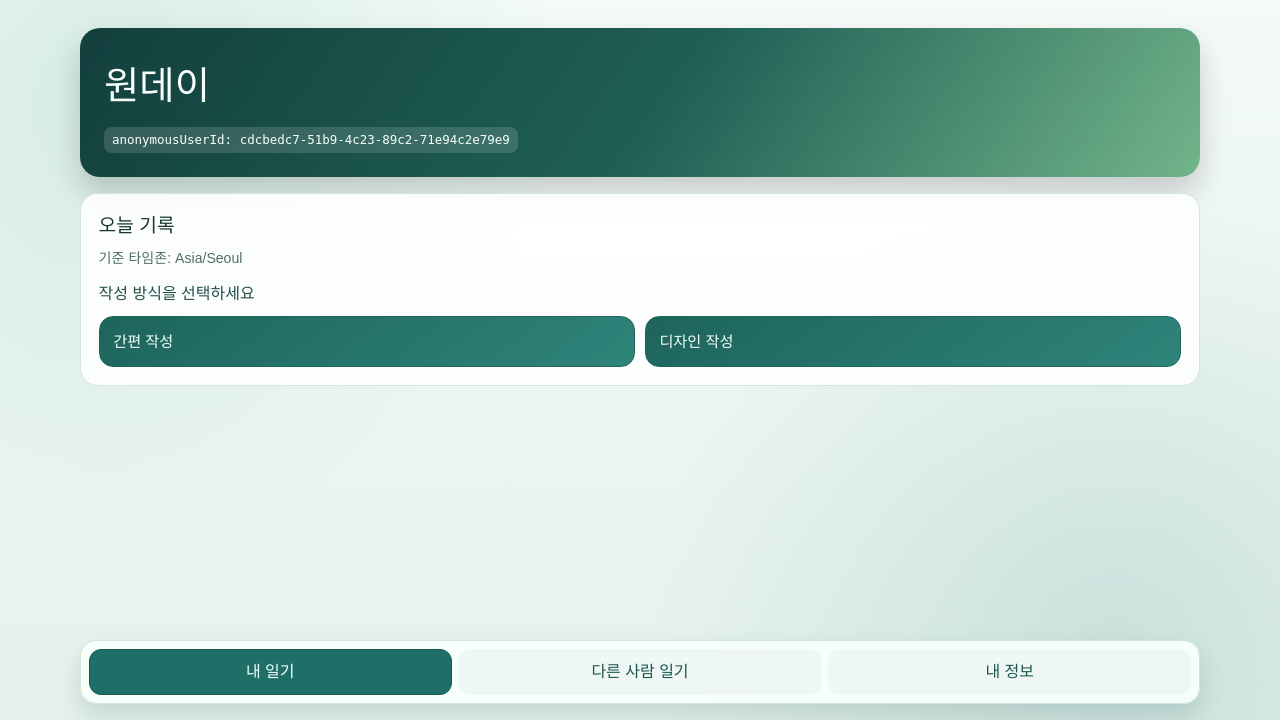
Test: App integration › uses the selected title instead of upload badges in the feed
What coordinates should you click on to do the following:
click the button "내 정보"
I would click on:
 (1010, 672)
Its box is [828, 649, 1191, 695].
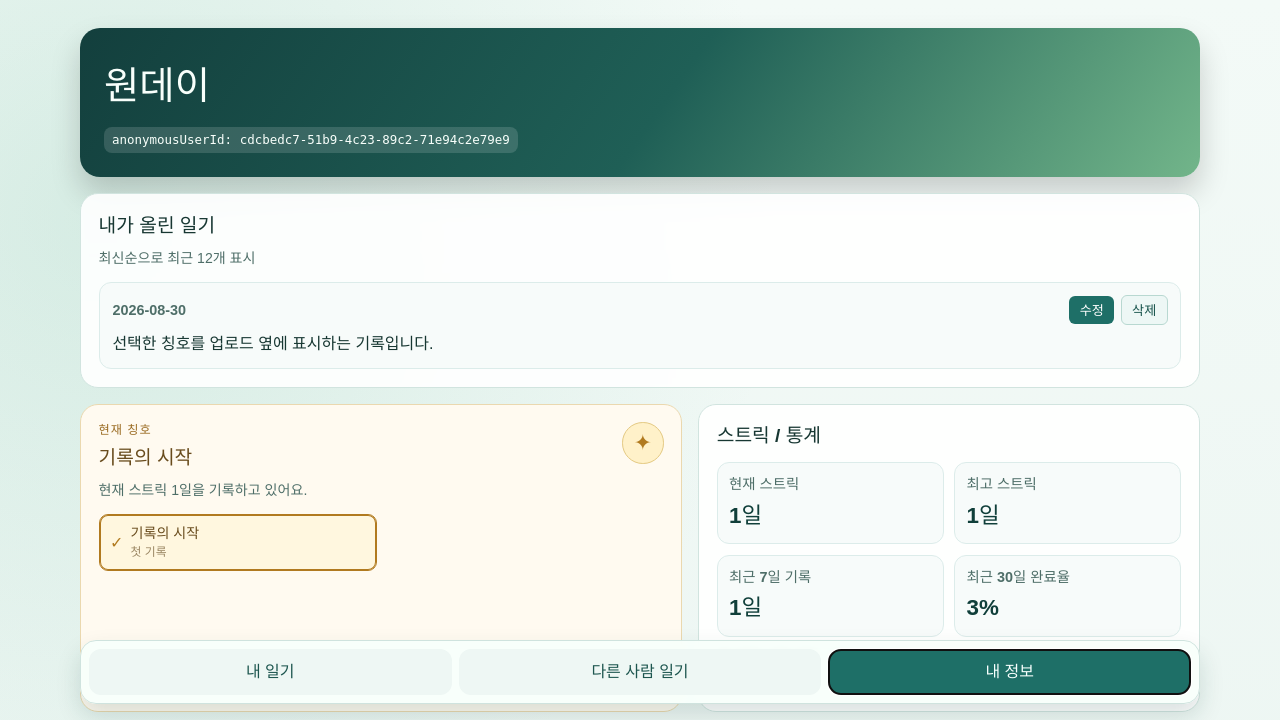
What coordinates should you click on to do the following:
click the button "✓ 기록의 시작 첫 기록"
I would click on:
 (165, 533)
Its box is [99, 514, 377, 571].
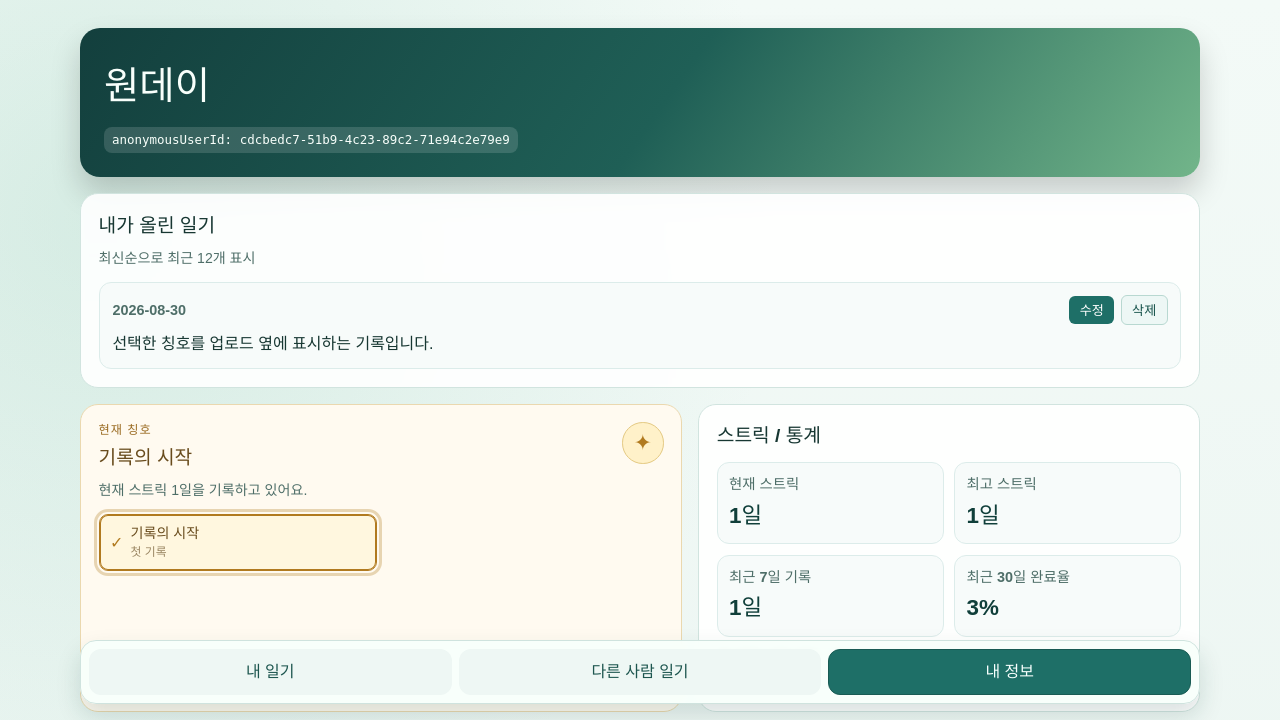
What coordinates should you click on to do the following:
click the button "다른 사람 일기"
I would click on:
 (640, 672)
Its box is [459, 649, 821, 695].
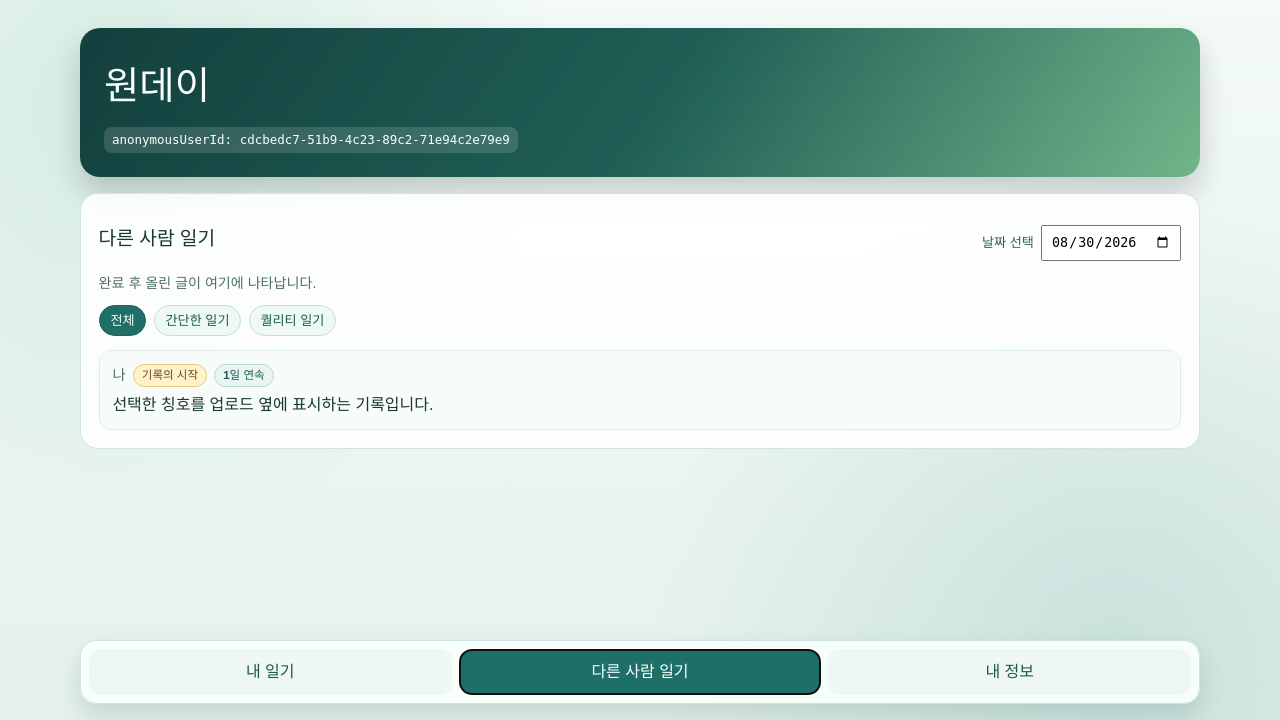
Check: the text "기록의 시작" is shown, box [133, 364, 207, 387]
Check: the text "1일 연속" is shown, box [214, 364, 274, 387]
